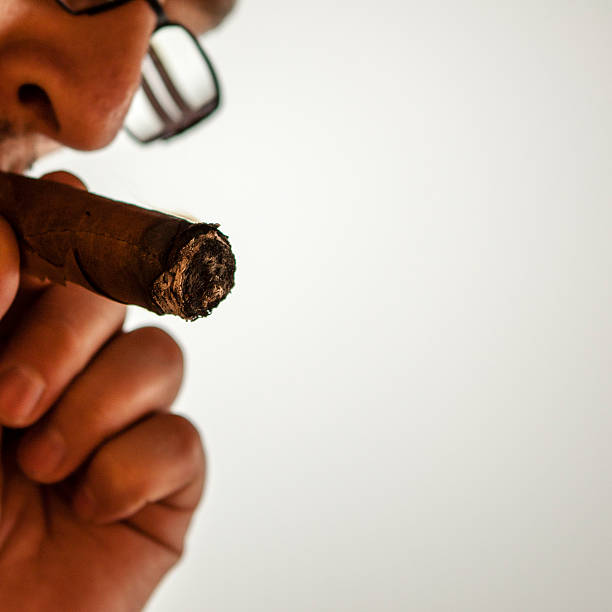cigarette: (0, 171, 237, 322)
